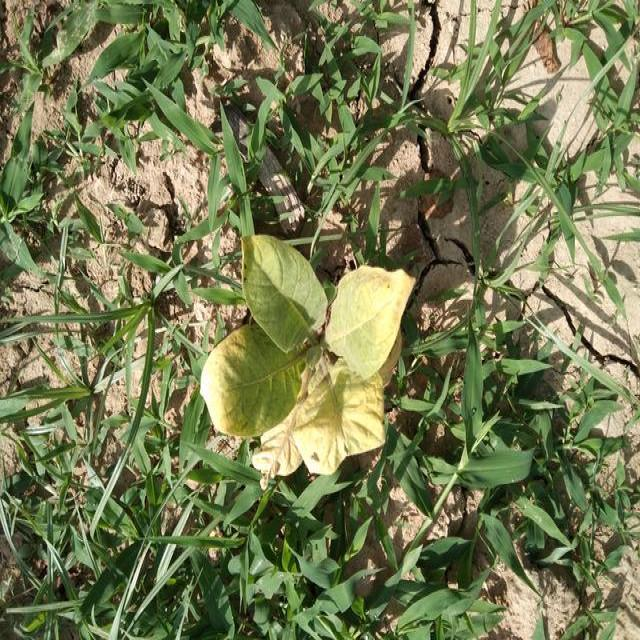crop: (192, 226, 416, 492)
